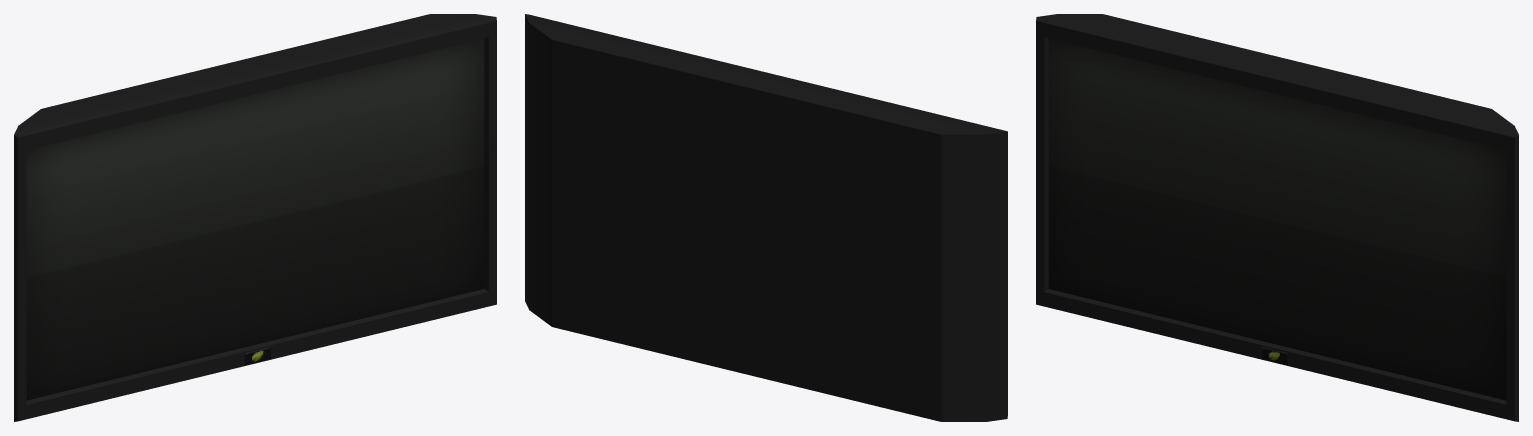
File: Flat_Screen_TV_02.FBX
3 views of the same model, side by side, from view 1: azimuth 30°, elevation 25°; view 2: azimuth 150°, elevation 25°; view 3: azimuth 330°, elevation 25° (orthographic).
Visible parts, largest first — view 1: Flat_Screen_01; view 2: Flat_Screen_01; view 3: Flat_Screen_01.
Part boxes in pixels (x1,y1,x2,y2): Flat_Screen_01: (14, 14, 496, 421); Flat_Screen_01: (525, 14, 1007, 421); Flat_Screen_01: (1036, 14, 1518, 421).
Size of the model in its own units: 230 by 131 by 18.62.
